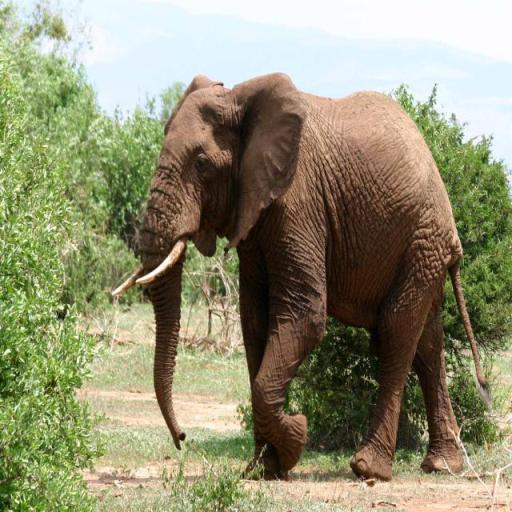Elephant: (111, 71, 492, 483)
